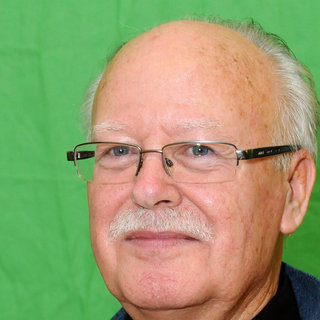eye: (178, 140, 222, 163), (98, 140, 136, 162)
